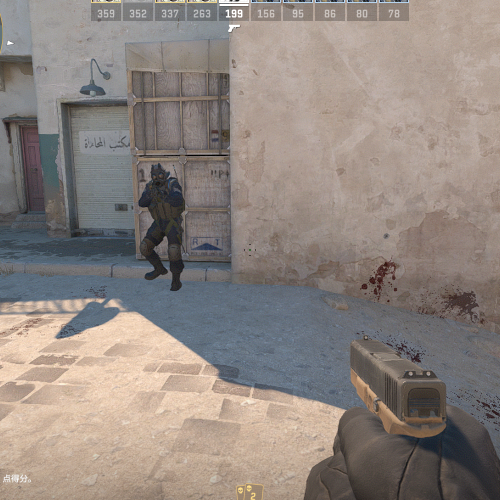ct_body: (138, 164, 187, 290)
ct_head: (148, 163, 167, 185)
